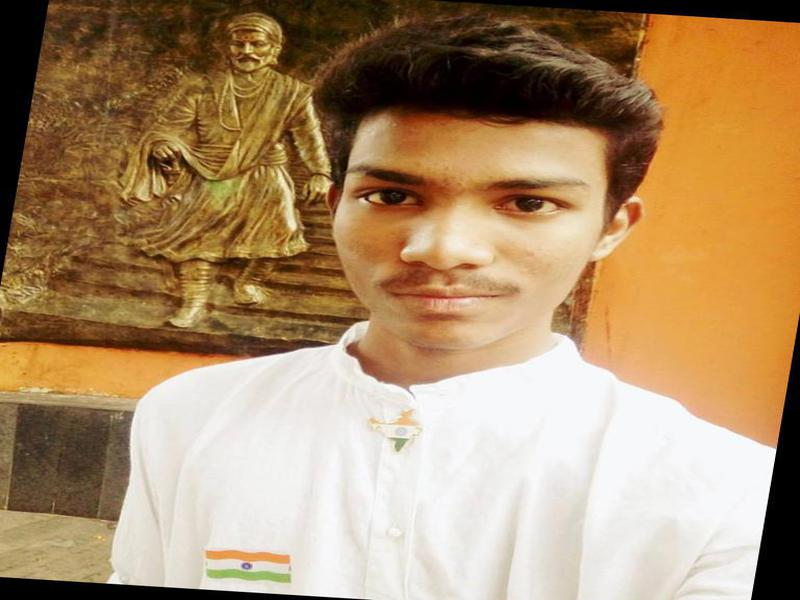without_mask: (329, 108, 600, 357)
